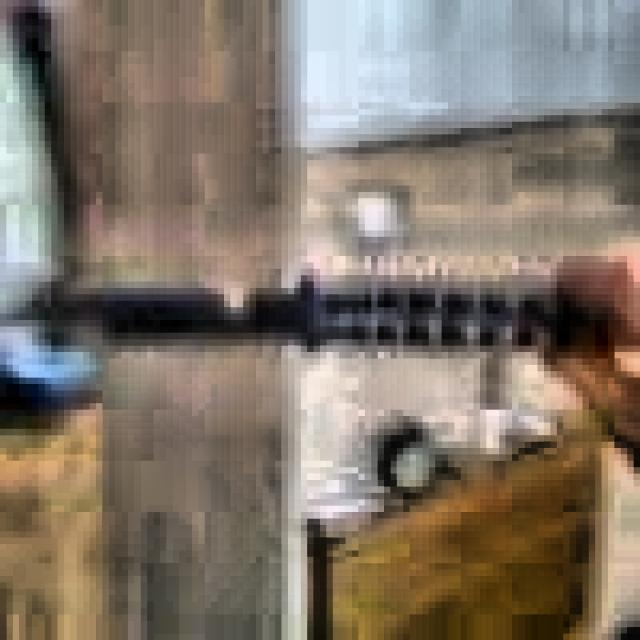knife: (111, 277, 589, 353)
